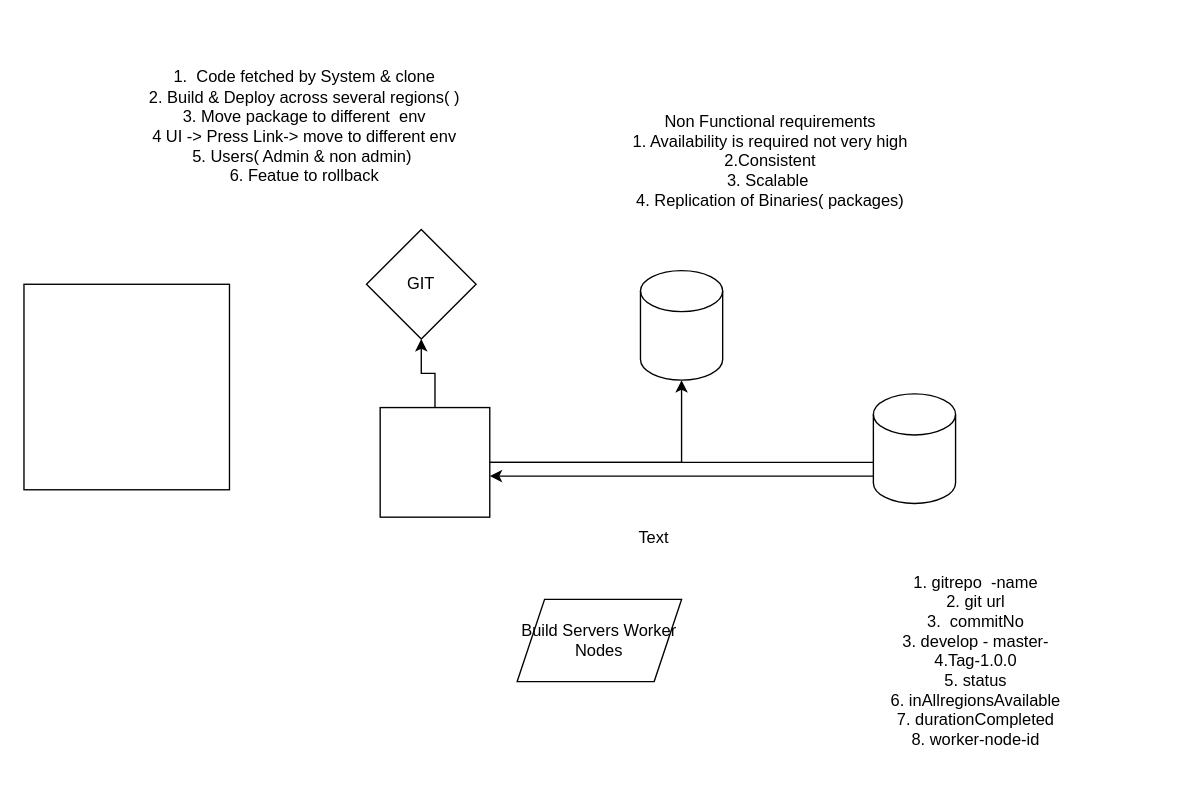
Some shapes in this 1185 by 786 pixel diagram are drawn without their labels. The centre of each missing label's shape, as x and y in pixels:
"Git Service" goes at [434,461].
"Release Tool UI Components" goes at [126,386].
